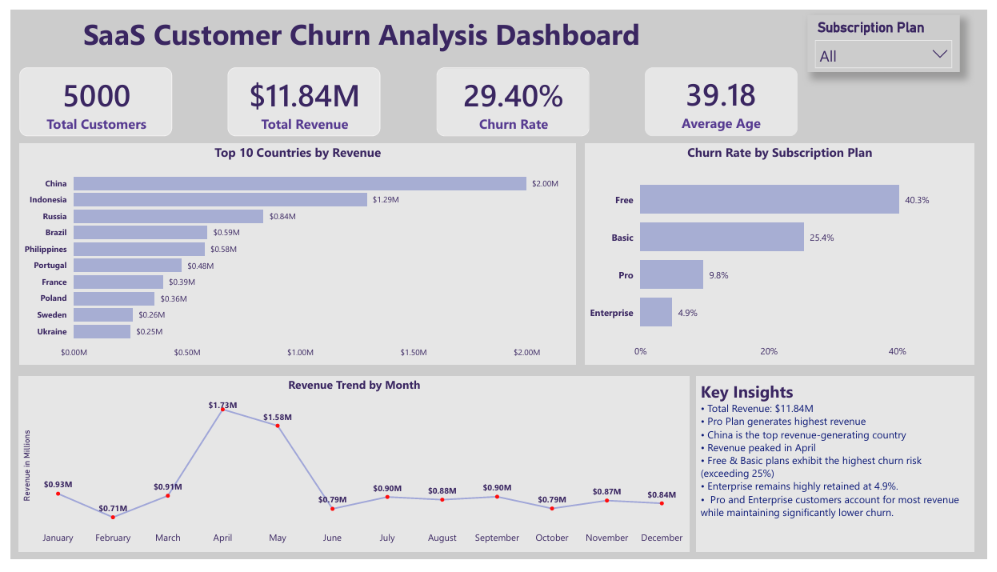

What the dashboard file says about the page in this screenshot:
{"tool":"powerbi","page":{"name":"Excecutive Overview","canvas":[1280,720],"ordinal":0},"visuals":[{"type":"textbox","box":[10,0,858.8,81.2],"z":0},{"type":"cardVisual","fields":{"Data":["saas payments.Total Revenue"]},"box":[283.8,74.5,200,90],"z":2000},{"type":"cardVisual","fields":{"Data":["saas customers.Churn Rate"]},"box":[557.5,75,200,90],"z":3000},{"type":"cardVisual","fields":{"Data":["saas customers.Average Age"]},"box":[831.2,75,200,90],"z":4000},{"type":"slicer","title":"Subscription Plan","fields":{"Values":["saas customers.subscription_plan"]},"box":[1043.8,6.2,200,75],"z":5000},{"type":"lineChart","title":"Revenue Trend by Month","fields":{"Category":["saas payments.payment_date.Variation.Date Hierarchy.Month"],"Y":["saas payments.Total Revenue"]},"box":[10,480,880,230],"z":6000},{"type":"clusteredBarChart","title":"Top 10 Countries by Revenue","fields":{"Category":["saas customers.country"],"Y":["saas payments.Total Revenue"]},"box":[11.2,175,730,290],"z":7000},{"type":"clusteredBarChart","title":"Churn Rate by Subscription Plan","fields":{"Category":["saas customers.subscription_plan"],"Y":["saas customers.Churn Rate"]},"box":[752.5,175,510,290],"z":8000},{"type":"textbox","box":[898.8,480,363.8,230],"z":9000},{"type":"cardVisual","fields":{"Data":["saas customers.Total Customers"]},"box":[11.2,75,200,90],"z":9001}]}

Visuals, with their boxes in screenshot pixels (x1, y1, x2, y2), scaled from the page's 1280x720 canvas onto the 997x572 screenshot:
textbox: 8,0,677,65
cardVisual - saas payments.Total Revenue: 221,59,377,131
cardVisual - saas customers.Churn Rate: 434,60,590,131
cardVisual - saas customers.Average Age: 647,60,803,131
"Subscription Plan" slicer: 813,5,969,65
"Revenue Trend by Month" lineChart: 8,381,693,564
"Top 10 Countries by Revenue" clusteredBarChart: 9,139,577,369
"Churn Rate by Subscription Plan" clusteredBarChart: 586,139,983,369
textbox: 700,381,983,564
cardVisual - saas customers.Total Customers: 9,60,165,131
